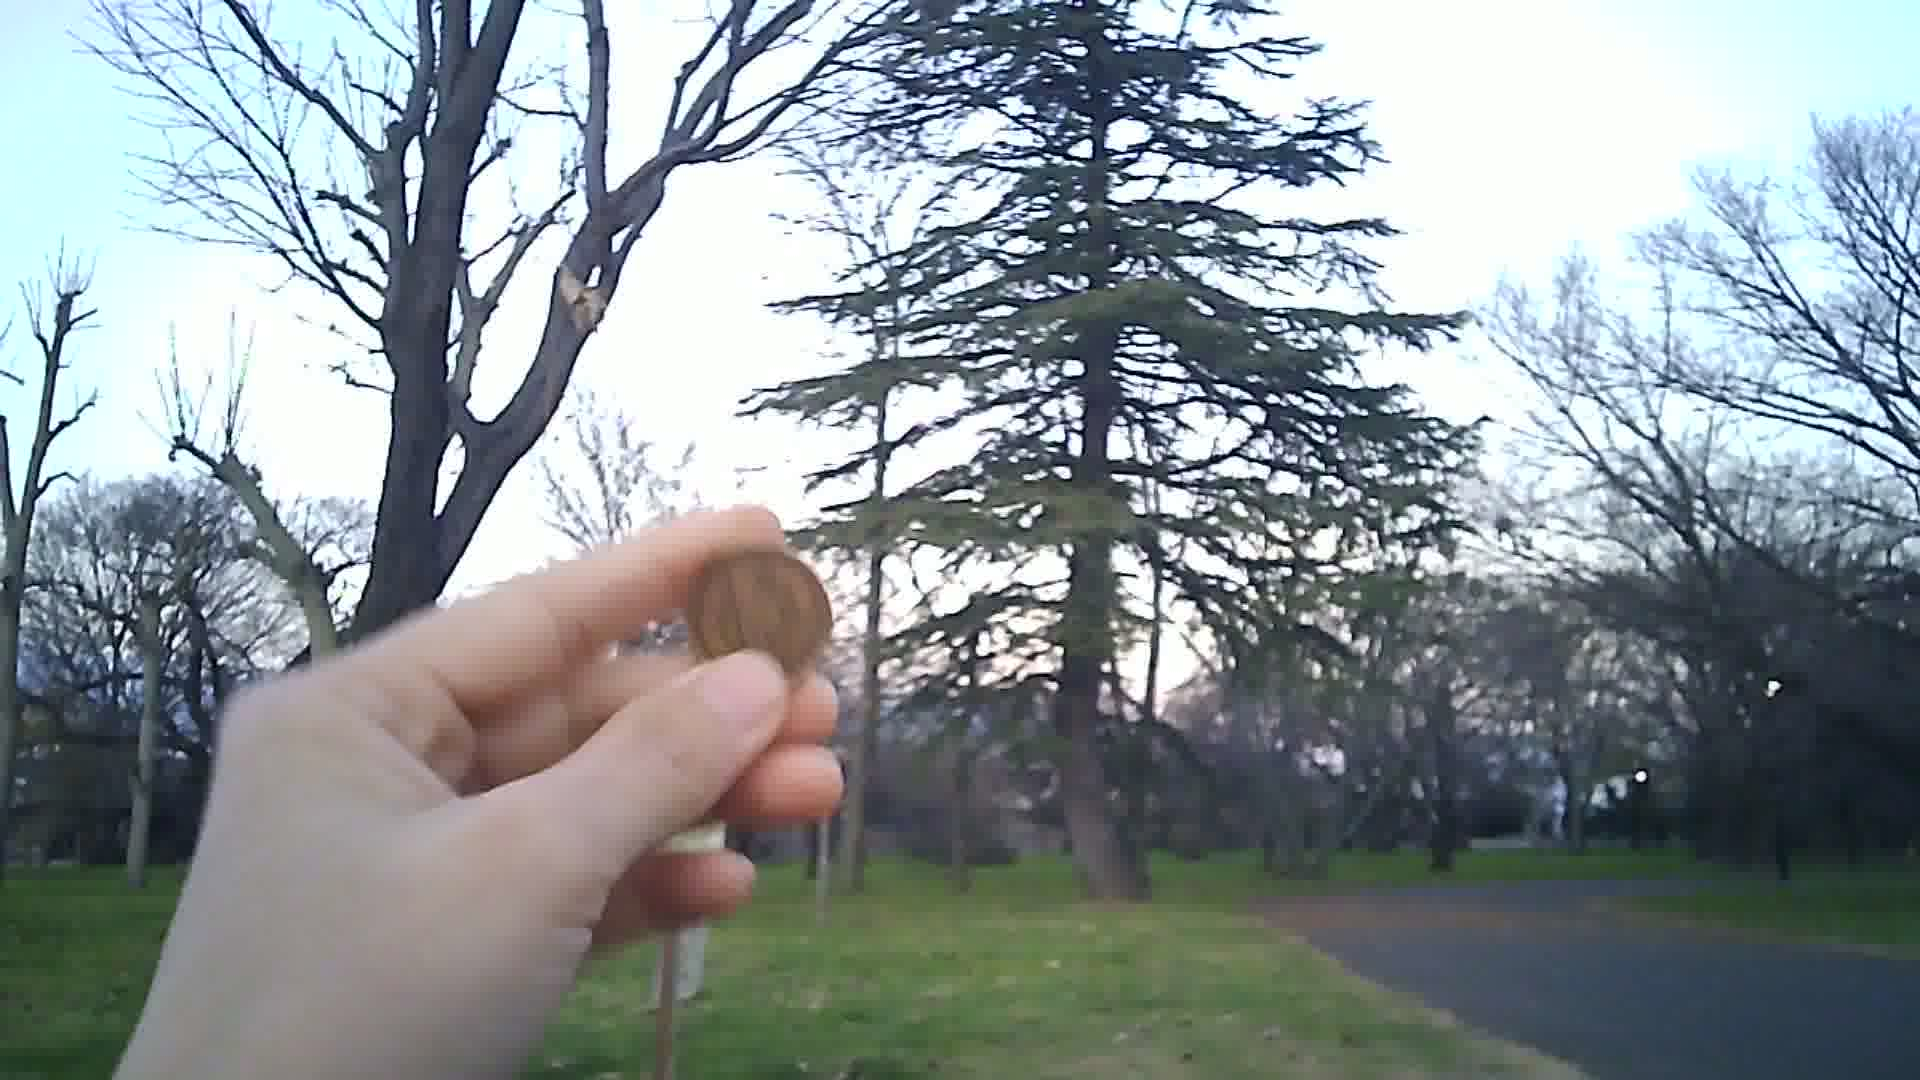10 Yen: (679, 545, 837, 684)
